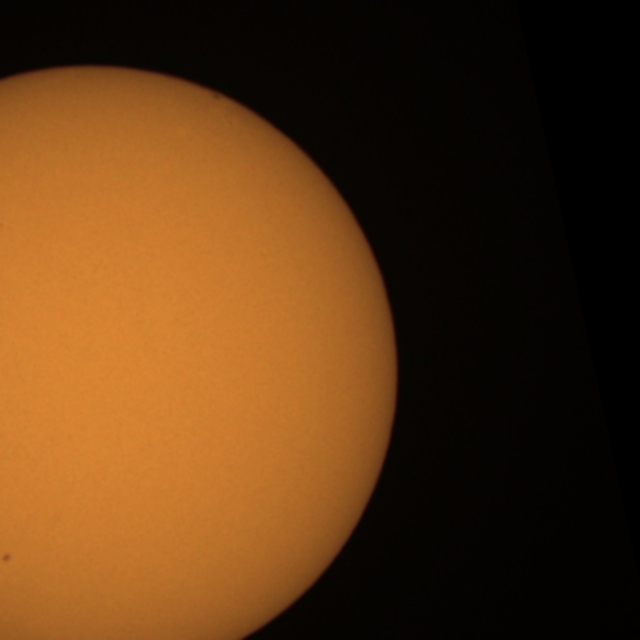sunspot: (0, 551, 13, 565)
